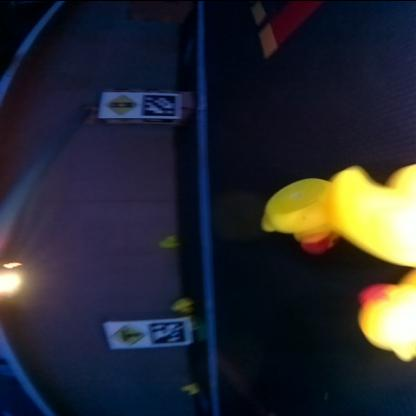Duckie: (331, 164, 415, 266), (356, 266, 414, 361), (262, 176, 328, 251), (171, 298, 190, 312), (158, 235, 176, 247), (184, 382, 196, 392)
Intersection sign: (107, 322, 145, 346)
QR code: (140, 92, 180, 118), (154, 319, 190, 345)
